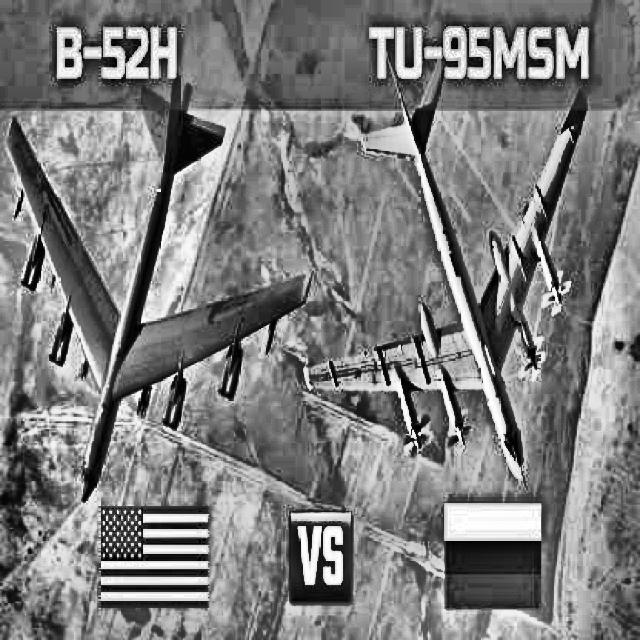B52: (5, 71, 313, 503)
Tu95: (303, 51, 588, 489)
